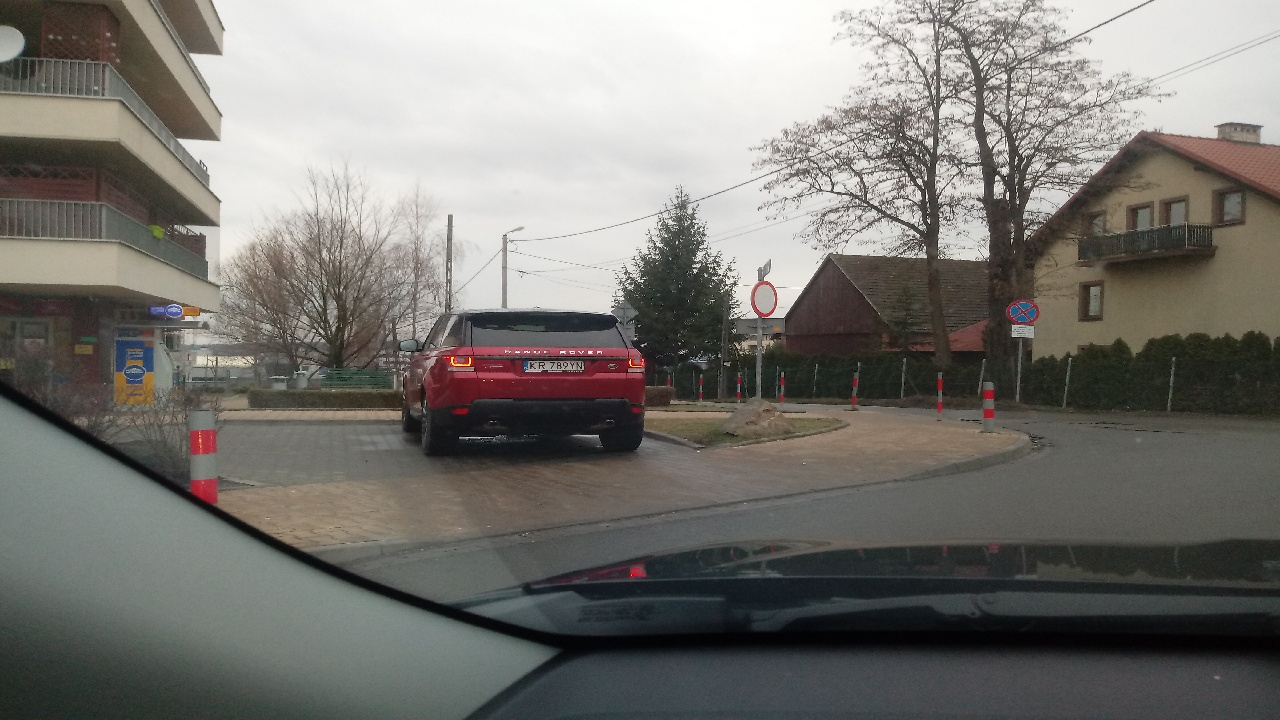B36: (1006, 299, 1040, 325)
